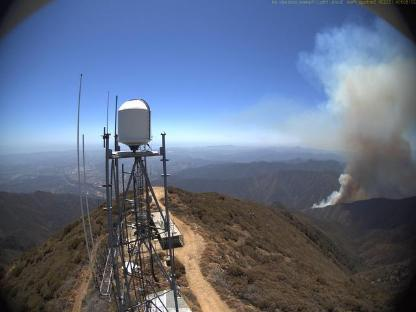smoke: (302, 18, 416, 210)
